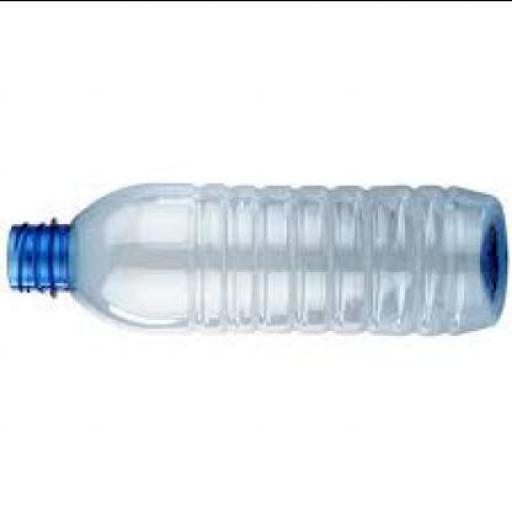plastic: (4, 180, 506, 334)
